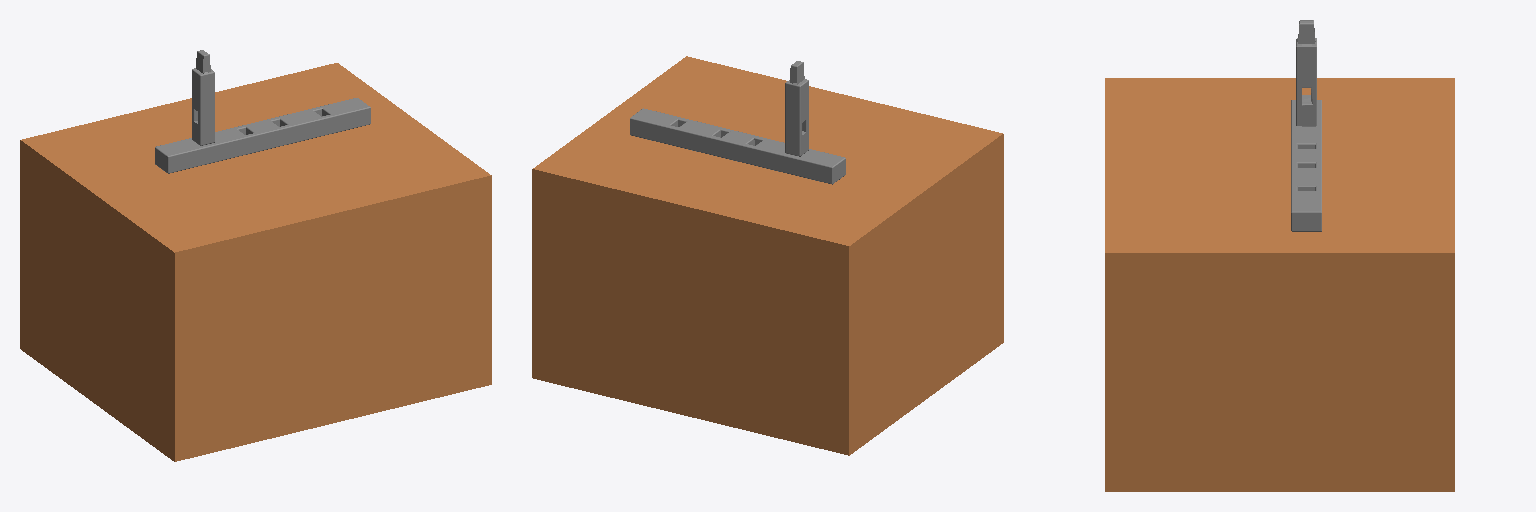
robot.urdf — table_beam_2x_0_scene_0068:
<?xml version="1.0"?>
<robot name="table_beam_2x_0_scene_0068">
  <link name="box">
    <visual>
      <material name="wood"><color rgba="0.82 0.56 0.35 1.0"/></material>
      <origin xyz="0 0 0"/>
      <geometry><box size="0.475 0.4 0.3"/></geometry>
    </visual>
    <collision>
      <origin xyz="0 0 0"/>
      <geometry><box size="0.475 0.4 0.3"/></geometry>
    </collision>
    <inertial>
      <mass value="500"/>
      <friction value="1.0"/>
      <inertia ixx="1000.0" ixy="0.0" ixz="0.0" iyy="1000.0" iyz="0.0" izz="1000.0"/>
    </inertial>
  </link>
  <link name="part_6_canonical">
    <visual>
      <origin xyz="0 0 0" rpy="0 0 0"/>
      <geometry><mesh filename="../../6/6_canonical.obj" scale="1 1 1"/></geometry>
      <material name="placed_0"><color rgba="0.6 0.6 0.6 1.0"/></material>
    </visual>
    <collision>
      <origin xyz="0 0 0" rpy="0 0 0"/>
      <geometry><mesh filename="../../6/6_canonical.obj" scale="1 1 1"/></geometry>
    </collision>
  </link>
  <joint name="part_6_canonical_joint" type="fixed">
    <parent link="box"/>
    <child link="part_6_canonical"/>
    <origin xyz="0.027655 0.030409 0.162666" rpy="0.000000 0.000000 0.000000"/>
  </joint>
  <link name="part_2_hull_0">
    <visual>
      <origin xyz="0 0 0" rpy="0 0 0"/>
      <geometry><mesh filename="../../2/coacd/decomp_0.obj" scale="1 1 1"/></geometry>
      <material name="placed_1"><color rgba="0.6 0.6 0.6 1.0"/></material>
    </visual>
    <collision>
      <origin xyz="0 0 0" rpy="0 0 0"/>
      <geometry><mesh filename="../../2/coacd/decomp_0.obj" scale="1 1 1"/></geometry>
    </collision>
  </link>
  <joint name="part_2_hull_0_joint" type="fixed">
    <parent link="box"/>
    <child link="part_2_hull_0"/>
    <origin xyz="-0.061272 0.030409 0.225384" rpy="0.000000 -1.570796 0.000000"/>
  </joint>
  <link name="part_2_hull_1">
    <visual>
      <origin xyz="0 0 0" rpy="0 0 0"/>
      <geometry><mesh filename="../../2/coacd/decomp_1.obj" scale="1 1 1"/></geometry>
      <material name="placed_2"><color rgba="0.6 0.6 0.6 1.0"/></material>
    </visual>
    <collision>
      <origin xyz="0 0 0" rpy="0 0 0"/>
      <geometry><mesh filename="../../2/coacd/decomp_1.obj" scale="1 1 1"/></geometry>
    </collision>
  </link>
  <joint name="part_2_hull_1_joint" type="fixed">
    <parent link="box"/>
    <child link="part_2_hull_1"/>
    <origin xyz="-0.061272 0.030409 0.225384" rpy="0.000000 -1.570796 0.000000"/>
  </joint>
  <link name="part_2_hull_2">
    <visual>
      <origin xyz="0 0 0" rpy="0 0 0"/>
      <geometry><mesh filename="../../2/coacd/decomp_10.obj" scale="1 1 1"/></geometry>
      <material name="placed_3"><color rgba="0.6 0.6 0.6 1.0"/></material>
    </visual>
    <collision>
      <origin xyz="0 0 0" rpy="0 0 0"/>
      <geometry><mesh filename="../../2/coacd/decomp_10.obj" scale="1 1 1"/></geometry>
    </collision>
  </link>
  <joint name="part_2_hull_2_joint" type="fixed">
    <parent link="box"/>
    <child link="part_2_hull_2"/>
    <origin xyz="-0.061272 0.030409 0.225384" rpy="0.000000 -1.570796 0.000000"/>
  </joint>
  <link name="part_2_hull_3">
    <visual>
      <origin xyz="0 0 0" rpy="0 0 0"/>
      <geometry><mesh filename="../../2/coacd/decomp_11.obj" scale="1 1 1"/></geometry>
      <material name="placed_4"><color rgba="0.6 0.6 0.6 1.0"/></material>
    </visual>
    <collision>
      <origin xyz="0 0 0" rpy="0 0 0"/>
      <geometry><mesh filename="../../2/coacd/decomp_11.obj" scale="1 1 1"/></geometry>
    </collision>
  </link>
  <joint name="part_2_hull_3_joint" type="fixed">
    <parent link="box"/>
    <child link="part_2_hull_3"/>
    <origin xyz="-0.061272 0.030409 0.225384" rpy="0.000000 -1.570796 0.000000"/>
  </joint>
  <link name="part_2_hull_4">
    <visual>
      <origin xyz="0 0 0" rpy="0 0 0"/>
      <geometry><mesh filename="../../2/coacd/decomp_12.obj" scale="1 1 1"/></geometry>
      <material name="placed_5"><color rgba="0.6 0.6 0.6 1.0"/></material>
    </visual>
    <collision>
      <origin xyz="0 0 0" rpy="0 0 0"/>
      <geometry><mesh filename="../../2/coacd/decomp_12.obj" scale="1 1 1"/></geometry>
    </collision>
  </link>
  <joint name="part_2_hull_4_joint" type="fixed">
    <parent link="box"/>
    <child link="part_2_hull_4"/>
    <origin xyz="-0.061272 0.030409 0.225384" rpy="0.000000 -1.570796 0.000000"/>
  </joint>
  <link name="part_2_hull_5">
    <visual>
      <origin xyz="0 0 0" rpy="0 0 0"/>
      <geometry><mesh filename="../../2/coacd/decomp_13.obj" scale="1 1 1"/></geometry>
      <material name="placed_6"><color rgba="0.6 0.6 0.6 1.0"/></material>
    </visual>
    <collision>
      <origin xyz="0 0 0" rpy="0 0 0"/>
      <geometry><mesh filename="../../2/coacd/decomp_13.obj" scale="1 1 1"/></geometry>
    </collision>
  </link>
  <joint name="part_2_hull_5_joint" type="fixed">
    <parent link="box"/>
    <child link="part_2_hull_5"/>
    <origin xyz="-0.061272 0.030409 0.225384" rpy="0.000000 -1.570796 0.000000"/>
  </joint>
  <link name="part_2_hull_6">
    <visual>
      <origin xyz="0 0 0" rpy="0 0 0"/>
      <geometry><mesh filename="../../2/coacd/decomp_14.obj" scale="1 1 1"/></geometry>
      <material name="placed_7"><color rgba="0.6 0.6 0.6 1.0"/></material>
    </visual>
    <collision>
      <origin xyz="0 0 0" rpy="0 0 0"/>
      <geometry><mesh filename="../../2/coacd/decomp_14.obj" scale="1 1 1"/></geometry>
    </collision>
  </link>
  <joint name="part_2_hull_6_joint" type="fixed">
    <parent link="box"/>
    <child link="part_2_hull_6"/>
    <origin xyz="-0.061272 0.030409 0.225384" rpy="0.000000 -1.570796 0.000000"/>
  </joint>
  <link name="part_2_hull_7">
    <visual>
      <origin xyz="0 0 0" rpy="0 0 0"/>
      <geometry><mesh filename="../../2/coacd/decomp_15.obj" scale="1 1 1"/></geometry>
      <material name="placed_8"><color rgba="0.6 0.6 0.6 1.0"/></material>
    </visual>
    <collision>
      <origin xyz="0 0 0" rpy="0 0 0"/>
      <geometry><mesh filename="../../2/coacd/decomp_15.obj" scale="1 1 1"/></geometry>
    </collision>
  </link>
  <joint name="part_2_hull_7_joint" type="fixed">
    <parent link="box"/>
    <child link="part_2_hull_7"/>
    <origin xyz="-0.061272 0.030409 0.225384" rpy="0.000000 -1.570796 0.000000"/>
  </joint>
  <link name="part_2_hull_8">
    <visual>
      <origin xyz="0 0 0" rpy="0 0 0"/>
      <geometry><mesh filename="../../2/coacd/decomp_2.obj" scale="1 1 1"/></geometry>
      <material name="placed_9"><color rgba="0.6 0.6 0.6 1.0"/></material>
    </visual>
    <collision>
      <origin xyz="0 0 0" rpy="0 0 0"/>
      <geometry><mesh filename="../../2/coacd/decomp_2.obj" scale="1 1 1"/></geometry>
    </collision>
  </link>
  <joint name="part_2_hull_8_joint" type="fixed">
    <parent link="box"/>
    <child link="part_2_hull_8"/>
    <origin xyz="-0.061272 0.030409 0.225384" rpy="0.000000 -1.570796 0.000000"/>
  </joint>
  <link name="part_2_hull_9">
    <visual>
      <origin xyz="0 0 0" rpy="0 0 0"/>
      <geometry><mesh filename="../../2/coacd/decomp_3.obj" scale="1 1 1"/></geometry>
      <material name="placed_10"><color rgba="0.6 0.6 0.6 1.0"/></material>
    </visual>
    <collision>
      <origin xyz="0 0 0" rpy="0 0 0"/>
      <geometry><mesh filename="../../2/coacd/decomp_3.obj" scale="1 1 1"/></geometry>
    </collision>
  </link>
  <joint name="part_2_hull_9_joint" type="fixed">
    <parent link="box"/>
    <child link="part_2_hull_9"/>
    <origin xyz="-0.061272 0.030409 0.225384" rpy="0.000000 -1.570796 0.000000"/>
  </joint>
  <link name="part_2_hull_10">
    <visual>
      <origin xyz="0 0 0" rpy="0 0 0"/>
      <geometry><mesh filename="../../2/coacd/decomp_4.obj" scale="1 1 1"/></geometry>
      <material name="placed_11"><color rgba="0.6 0.6 0.6 1.0"/></material>
    </visual>
    <collision>
      <origin xyz="0 0 0" rpy="0 0 0"/>
      <geometry><mesh filename="../../2/coacd/decomp_4.obj" scale="1 1 1"/></geometry>
    </collision>
  </link>
  <joint name="part_2_hull_10_joint" type="fixed">
    <parent link="box"/>
    <child link="part_2_hull_10"/>
    <origin xyz="-0.061272 0.030409 0.225384" rpy="0.000000 -1.570796 0.000000"/>
  </joint>
  <link name="part_2_hull_11">
    <visual>
      <origin xyz="0 0 0" rpy="0 0 0"/>
      <geometry><mesh filename="../../2/coacd/decomp_5.obj" scale="1 1 1"/></geometry>
      <material name="placed_12"><color rgba="0.6 0.6 0.6 1.0"/></material>
    </visual>
    <collision>
      <origin xyz="0 0 0" rpy="0 0 0"/>
      <geometry><mesh filename="../../2/coacd/decomp_5.obj" scale="1 1 1"/></geometry>
    </collision>
  </link>
  <joint name="part_2_hull_11_joint" type="fixed">
    <parent link="box"/>
    <child link="part_2_hull_11"/>
    <origin xyz="-0.061272 0.030409 0.225384" rpy="0.000000 -1.570796 0.000000"/>
  </joint>
  <link name="part_2_hull_12">
    <visual>
      <origin xyz="0 0 0" rpy="0 0 0"/>
      <geometry><mesh filename="../../2/coacd/decomp_6.obj" scale="1 1 1"/></geometry>
      <material name="placed_13"><color rgba="0.6 0.6 0.6 1.0"/></material>
    </visual>
    <collision>
      <origin xyz="0 0 0" rpy="0 0 0"/>
      <geometry><mesh filename="../../2/coacd/decomp_6.obj" scale="1 1 1"/></geometry>
    </collision>
  </link>
  <joint name="part_2_hull_12_joint" type="fixed">
    <parent link="box"/>
    <child link="part_2_hull_12"/>
    <origin xyz="-0.061272 0.030409 0.225384" rpy="0.000000 -1.570796 0.000000"/>
  </joint>
  <link name="part_2_hull_13">
    <visual>
      <origin xyz="0 0 0" rpy="0 0 0"/>
      <geometry><mesh filename="../../2/coacd/decomp_7.obj" scale="1 1 1"/></geometry>
      <material name="placed_14"><color rgba="0.6 0.6 0.6 1.0"/></material>
    </visual>
    <collision>
      <origin xyz="0 0 0" rpy="0 0 0"/>
      <geometry><mesh filename="../../2/coacd/decomp_7.obj" scale="1 1 1"/></geometry>
    </collision>
  </link>
  <joint name="part_2_hull_13_joint" type="fixed">
    <parent link="box"/>
    <child link="part_2_hull_13"/>
    <origin xyz="-0.061272 0.030409 0.225384" rpy="0.000000 -1.570796 0.000000"/>
  </joint>
  <link name="part_2_hull_14">
    <visual>
      <origin xyz="0 0 0" rpy="0 0 0"/>
      <geometry><mesh filename="../../2/coacd/decomp_8.obj" scale="1 1 1"/></geometry>
      <material name="placed_15"><color rgba="0.6 0.6 0.6 1.0"/></material>
    </visual>
    <collision>
      <origin xyz="0 0 0" rpy="0 0 0"/>
      <geometry><mesh filename="../../2/coacd/decomp_8.obj" scale="1 1 1"/></geometry>
    </collision>
  </link>
  <joint name="part_2_hull_14_joint" type="fixed">
    <parent link="box"/>
    <child link="part_2_hull_14"/>
    <origin xyz="-0.061272 0.030409 0.225384" rpy="0.000000 -1.570796 0.000000"/>
  </joint>
  <link name="part_2_hull_15">
    <visual>
      <origin xyz="0 0 0" rpy="0 0 0"/>
      <geometry><mesh filename="../../2/coacd/decomp_9.obj" scale="1 1 1"/></geometry>
      <material name="placed_16"><color rgba="0.6 0.6 0.6 1.0"/></material>
    </visual>
    <collision>
      <origin xyz="0 0 0" rpy="0 0 0"/>
      <geometry><mesh filename="../../2/coacd/decomp_9.obj" scale="1 1 1"/></geometry>
    </collision>
  </link>
  <joint name="part_2_hull_15_joint" type="fixed">
    <parent link="box"/>
    <child link="part_2_hull_15"/>
    <origin xyz="-0.061272 0.030409 0.225384" rpy="0.000000 -1.570796 0.000000"/>
  </joint>
</robot>

--- Render facts (derived) ---
The picture shows the robot from 3 angles, left to right: view 1: azimuth 30°, elevation 25°; view 2: azimuth 150°, elevation 25°; view 3: azimuth 270°, elevation 25°; orthographic projection.
Robot: table_beam_2x_0_scene_0068 — 18 links, 17 joints (17 fixed); root link box; default pose: all joints at 0.
Visible links, largest first — view 1: box, part_6_canonical; view 2: box, part_6_canonical, part_2_hull_1; view 3: box, part_6_canonical.
Boxes of the visible links, bbox=[...] form: box: bbox=[20, 63, 491, 461]; part_6_canonical: bbox=[155, 98, 370, 173]; box: bbox=[532, 56, 1003, 455]; part_6_canonical: bbox=[630, 108, 845, 184]; part_2_hull_1: bbox=[796, 79, 808, 123]; box: bbox=[1105, 78, 1454, 491]; part_6_canonical: bbox=[1291, 100, 1321, 231].
Bounding box of the posed robot: 0.475 × 0.4 × 0.4524 m (x, y, z).
17 mesh visuals loaded from 17 distinct referenced files (17 OBJ).
